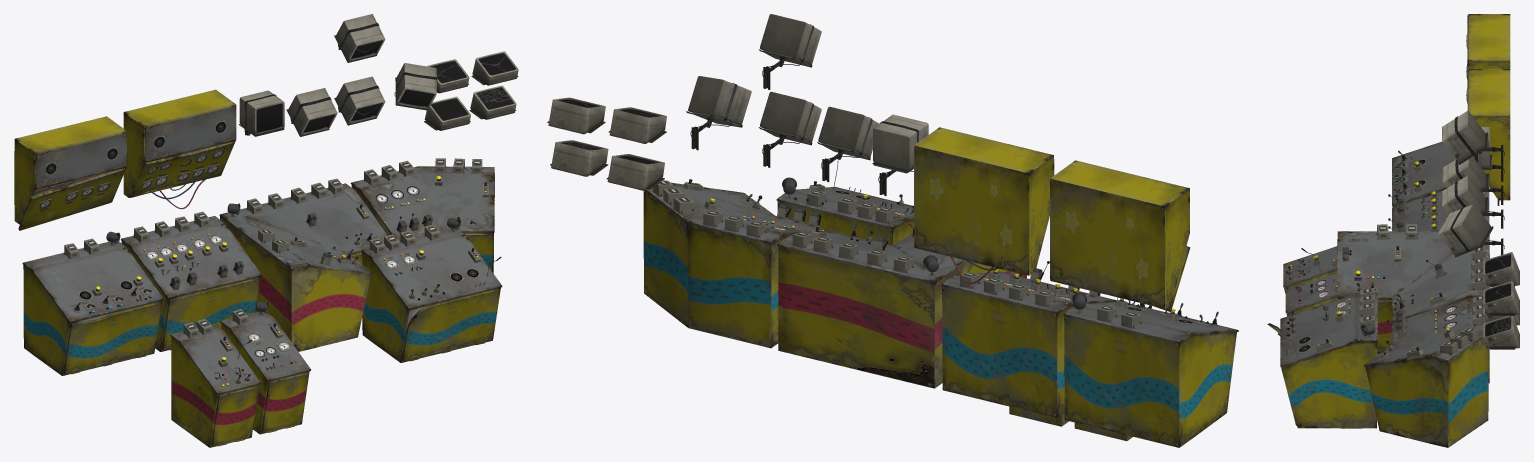
The model's file is ControlPanelPackC.fbx.
3 renders of one model, left to right at view 1: azimuth 30°, elevation 25°; view 2: azimuth 150°, elevation 25°; view 3: azimuth 270°, elevation 25°, orthographic. The views are drawn at different scales.
Parts seen in each view (by area): view 1: SM_ControlDesksBottomCorner90Degree_A.mo, SM_ControlDesksBottomThick_B.mo, SM_ControlDesksBottomThick_C.mo, SM_ControlDesksBottomThick_A.mo, SM_ControlDeskstopThick_B.mo, SM_ControlDeskstopThick_C.mo, SM_ControlDesksBottomCorner30Degree_A.mo, SM_ControlDesksBottomThin_B.mo, SM_ControlDesksBottomThin_A.mo, SM_ControlDesksScreenV1_A.mo, SM_ControlDesksScreenV4_C.mo, SM_ControlDesksScreenV4_A.mo (+6 smaller); view 2: SM_ControlDesksBottomCorner90Degree_A.mo, SM_ControlDesksBottomThick_B.mo, SM_ControlDesksBottomCorner30Degree_A.mo, SM_ControlDeskstopThick_B.mo, SM_ControlDeskstopThick_C.mo, SM_ControlDesksBottomThick_A.mo, SM_ControlDesksBottomThick_C.mo, SM_ControlDesksScreenV3_A.mo, SM_ControlDesksScreenV1_A.mo, SM_ControlDesksScreenV4_C.mo, SM_ControlDesksScreenV3_C.mo, SM_ControlDesksScreenV4_A.mo (+4 smaller); view 3: SM_ControlDesksBottomCorner30Degree_A.mo, SM_ControlDesksBottomThick_C.mo, SM_ControlDesksBottomCorner90Degree_A.mo, SM_ControlDeskstopThick_C.mo, SM_ControlDesksBottomThick_B.mo, SM_ControlDeskstopThick_B.mo, SM_ControlDesksScreenV3_A.mo, SM_ControlDesksBottomThick_A.mo, SM_ControlDesksScreenV3_C.mo, SM_ControlDesksBottomThin_B.mo, SM_ControlDesksBottomThin_A.mo, SM_ControlDesksScreenV4_C.mo (+5 smaller).
Part boxes in pixels (x1=…): SM_ControlDesksBottomCorner90Degree_A.mo: x1=219, y1=178, x2=387, y2=351; SM_ControlDesksBottomThick_B.mo: x1=22, y1=231, x2=163, y2=375; SM_ControlDesksBottomThick_C.mo: x1=361, y1=217, x2=502, y2=362; SM_ControlDesksBottomThick_A.mo: x1=121, y1=211, x2=261, y2=351; SM_ControlDeskstopThick_B.mo: x1=14, y1=116, x2=126, y2=230; SM_ControlDeskstopThick_C.mo: x1=123, y1=89, x2=236, y2=209; SM_ControlDesksBottomCorner30Degree_A.mo: x1=350, y1=158, x2=494, y2=273; SM_ControlDesksBottomThin_B.mo: x1=170, y1=319, x2=260, y2=447; SM_ControlDesksBottomThin_A.mo: x1=220, y1=301, x2=310, y2=434; SM_ControlDesksScreenV1_A.mo: x1=239, y1=90, x2=284, y2=136; SM_ControlDesksScreenV4_C.mo: x1=334, y1=76, x2=385, y2=125; SM_ControlDesksScreenV4_A.mo: x1=286, y1=88, x2=337, y2=136; SM_ControlDesksBottomCorner90Degree_A.mo: x1=777, y1=222, x2=1026, y2=388; SM_ControlDesksBottomThick_B.mo: x1=1063, y1=292, x2=1238, y2=447; SM_ControlDesksBottomCorner30Degree_A.mo: x1=643, y1=179, x2=830, y2=348; SM_ControlDeskstopThick_B.mo: x1=1050, y1=160, x2=1190, y2=311; SM_ControlDeskstopThick_C.mo: x1=914, y1=127, x2=1054, y2=283; SM_ControlDesksBottomThick_A.mo: x1=941, y1=261, x2=1116, y2=417; SM_ControlDesksBottomThick_C.mo: x1=776, y1=160, x2=914, y2=245; SM_ControlDesksScreenV3_A.mo: x1=686, y1=76, x2=751, y2=150; SM_ControlDesksScreenV1_A.mo: x1=872, y1=114, x2=928, y2=195; SM_ControlDesksScreenV4_C.mo: x1=758, y1=91, x2=821, y2=167; SM_ControlDesksScreenV3_C.mo: x1=758, y1=14, x2=821, y2=89; SM_ControlDesksScreenV4_A.mo: x1=817, y1=106, x2=879, y2=182; SM_ControlDesksBottomCorner30Degree_A.mo: x1=1364, y1=296, x2=1488, y2=447; SM_ControlDesksBottomThick_C.mo: x1=1267, y1=287, x2=1377, y2=428; SM_ControlDesksBottomCorner90Degree_A.mo: x1=1337, y1=224, x2=1490, y2=383; SM_ControlDeskstopThick_C.mo: x1=1466, y1=69, x2=1510, y2=205; SM_ControlDesksBottomThick_B.mo: x1=1392, y1=141, x2=1455, y2=206; SM_ControlDeskstopThick_B.mo: x1=1466, y1=14, x2=1510, y2=87; SM_ControlDesksScreenV3_A.mo: x1=1438, y1=204, x2=1504, y2=256; SM_ControlDesksBottomThick_A.mo: x1=1388, y1=188, x2=1489, y2=231; SM_ControlDesksScreenV3_C.mo: x1=1442, y1=110, x2=1504, y2=164; SM_ControlDesksBottomThin_B.mo: x1=1283, y1=246, x2=1337, y2=293; SM_ControlDesksBottomThin_A.mo: x1=1285, y1=273, x2=1379, y2=354; SM_ControlDesksScreenV4_C.mo: x1=1442, y1=175, x2=1504, y2=228.
Size of the model in its own units: 749 by 455 by 320.
